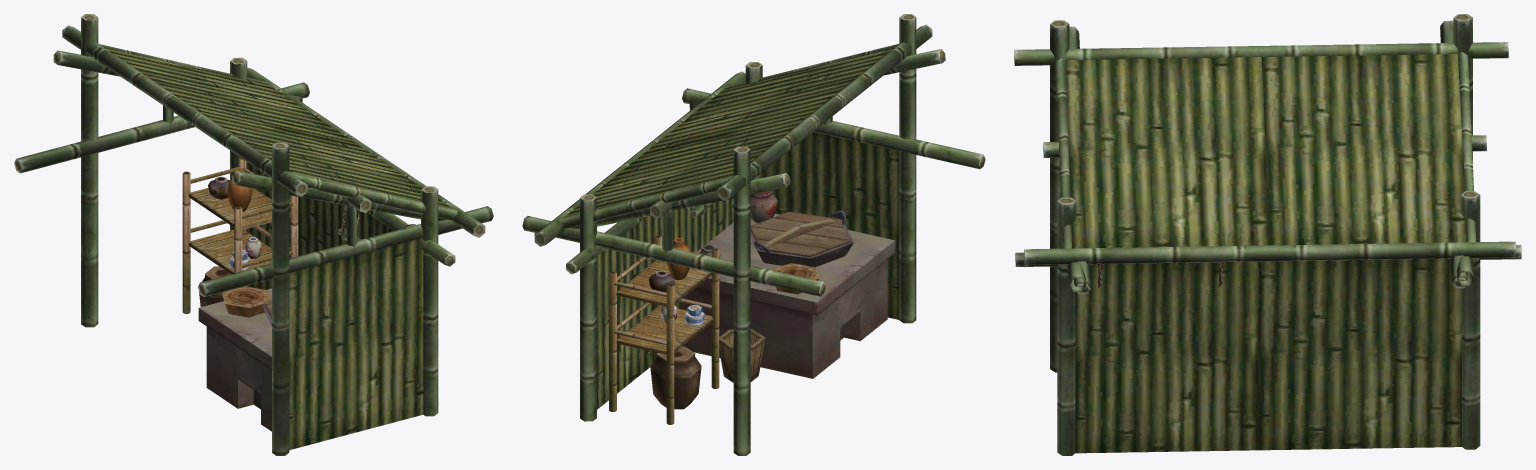
3 renders of one model, left to right at view 1: azimuth 30°, elevation 25°; view 2: azimuth 150°, elevation 25°; view 3: azimuth 270°, elevation 25°, orthographic. The views are drawn at different scales.
Parts seen in each view (by area): view 1: Combined_Mesh_root_scene_2_Mesh_polySurface2991Shape1; view 2: Combined_Mesh_root_scene_2_Mesh_polySurface2991Shape1; view 3: Combined_Mesh_root_scene_2_Mesh_polySurface2991Shape1.
Boxes of the visible parts, x1,y1,x2,y2 form: Combined_Mesh_root_scene_2_Mesh_polySurface2991Shape1: [14, 14, 493, 455]; Combined_Mesh_root_scene_2_Mesh_polySurface2991Shape1: [522, 14, 985, 455]; Combined_Mesh_root_scene_2_Mesh_polySurface2991Shape1: [1014, 14, 1521, 455].
Size of the model in its own units: 14.42 by 13.84 by 18.46.
